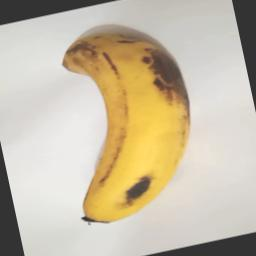Banana Unripe: (38, 10, 215, 236)
